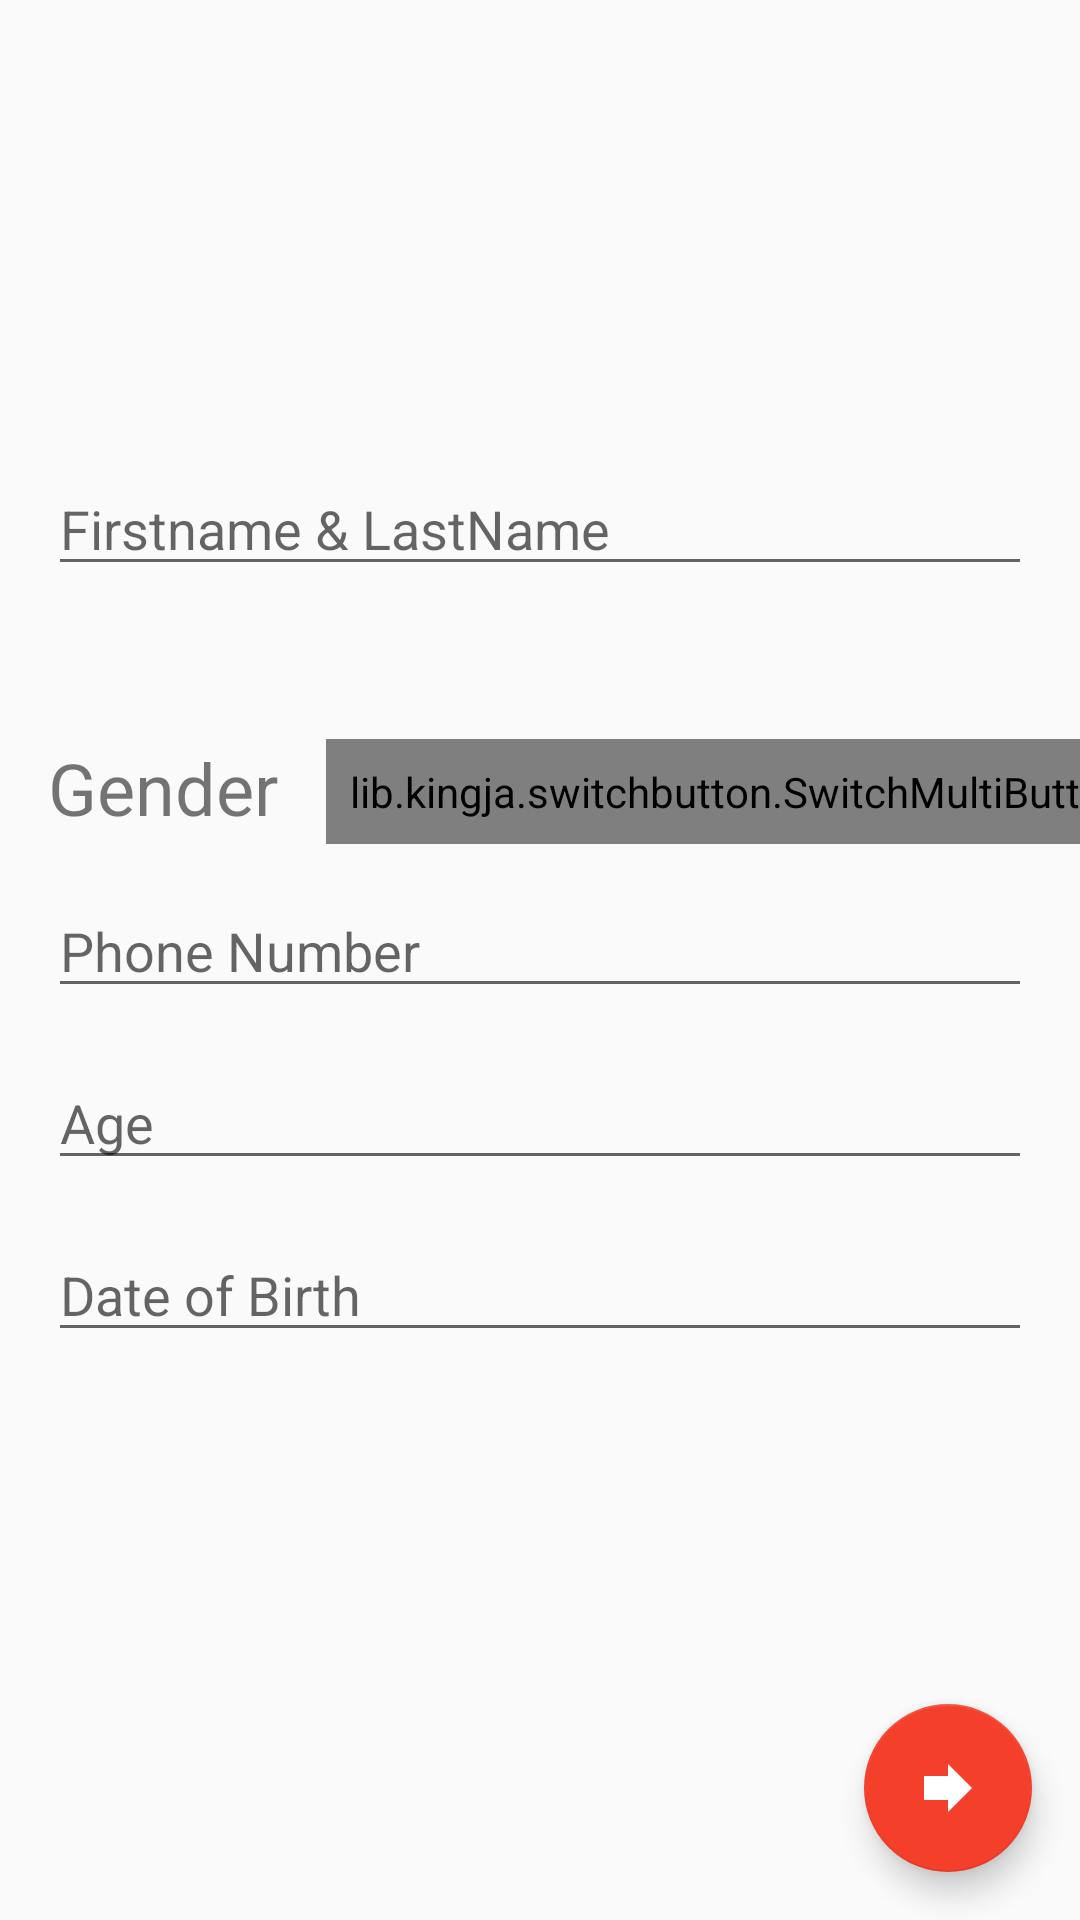

Icon bounding boxes for this 1080x1920 phone screenshot, format (x1,y1,x2,y2):
forward: (864,1704,1032,1872)
